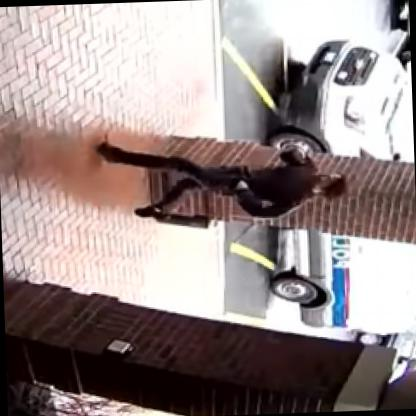Human Body: (87, 138, 351, 219)
